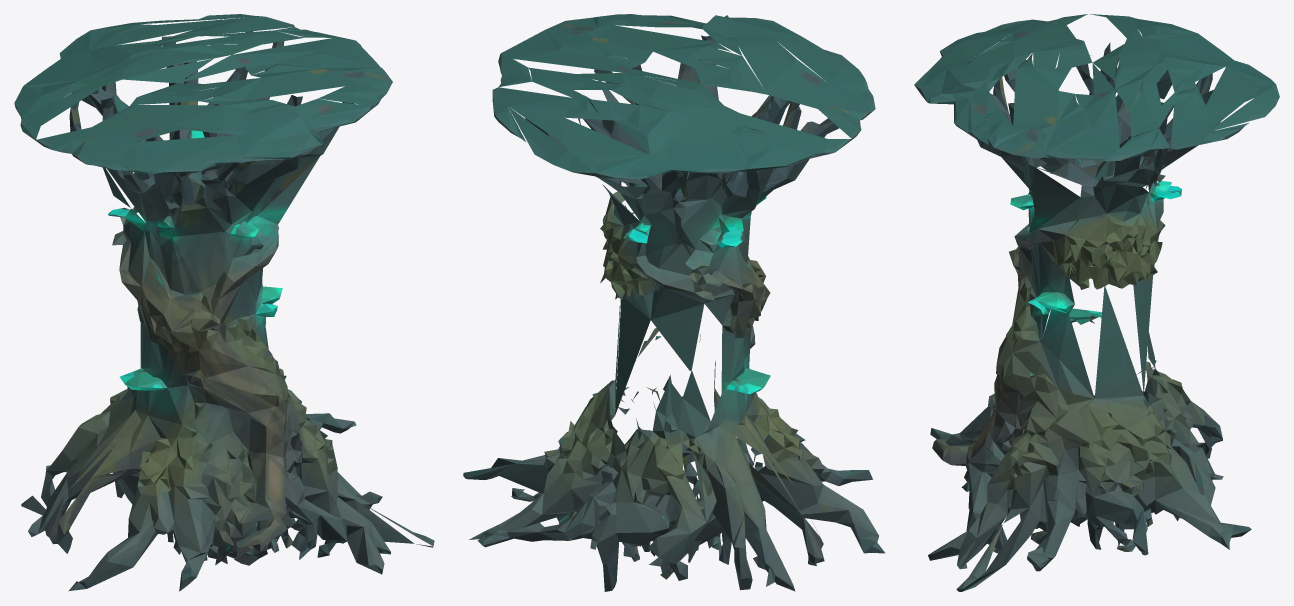
Rendered from root_pillar.glb.
The picture shows the model from 3 angles, left to right: view 1: azimuth 30°, elevation 25°; view 2: azimuth 150°, elevation 25°; view 3: azimuth 270°, elevation 25°; orthographic projection. The views are drawn at different scales.
Parts seen in each view (by area): view 1: geometry_0; view 2: geometry_0; view 3: geometry_0.
Part boxes in pixels (x1=…): geometry_0: x1=14, y1=14, x2=434, y2=591; geometry_0: x1=463, y1=14, x2=885, y2=591; geometry_0: x1=914, y1=14, x2=1279, y2=591.
Size of the model in its own units: 2.41 by 3.1 by 2.27.
Materials: 1 (1 with a texture image).
